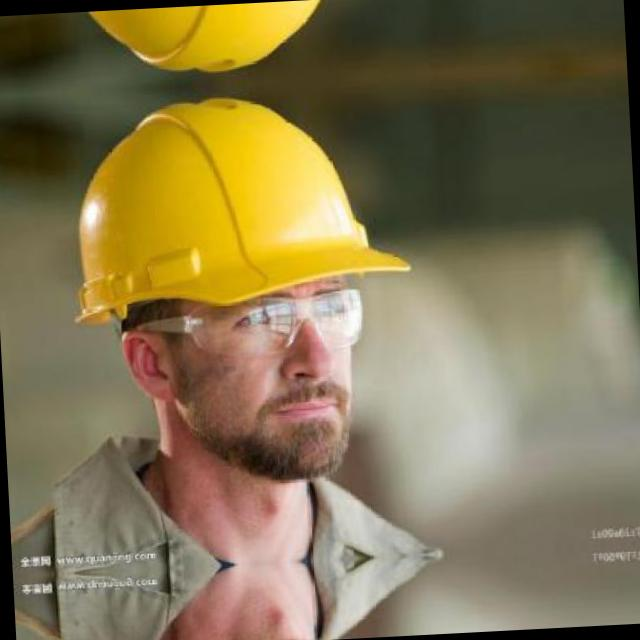helmet: (44, 74, 438, 522)
